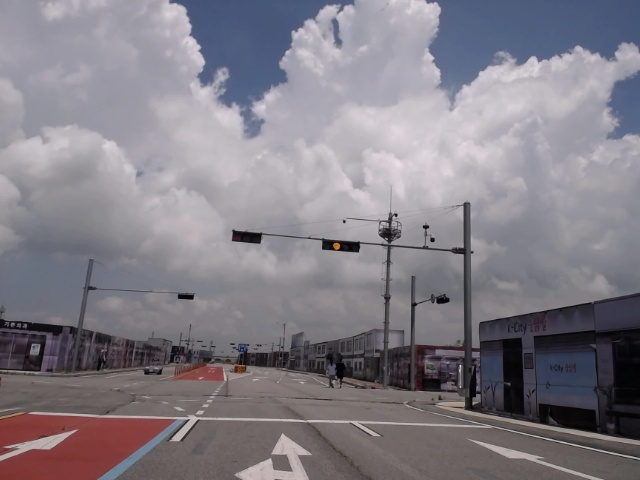orange_4: (323, 240, 360, 253)
